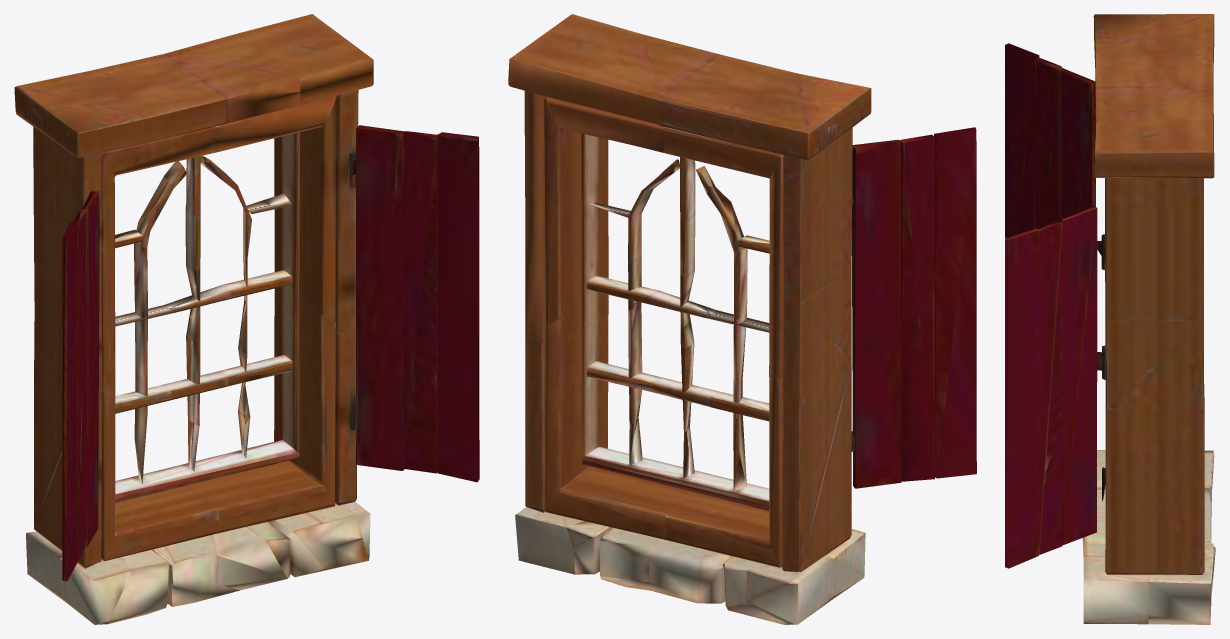
Rendered from window.lod1.glb.
3 views of the same model, side by side, from view 1: azimuth 30°, elevation 25°; view 2: azimuth 150°, elevation 25°; view 3: azimuth 270°, elevation 25° (orthographic). The views are drawn at different scales.
Bounding box in the file's own units: 1.1 × 1.25 × 0.5.
Materials: 1 (1 with a texture image).
